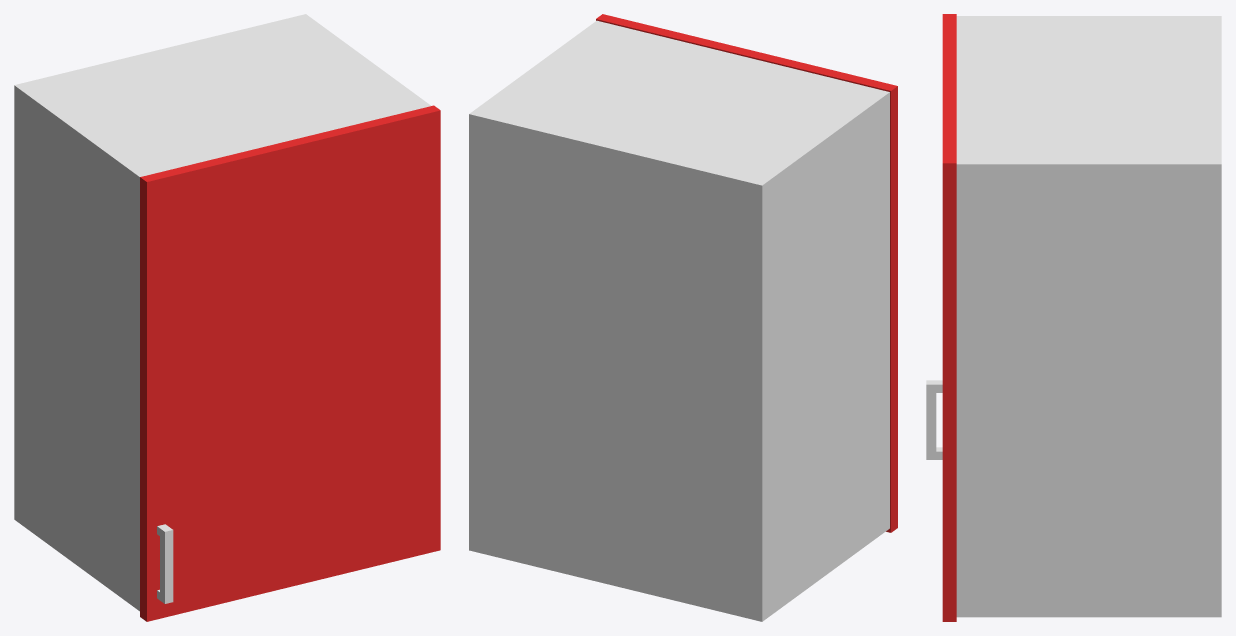
File: kitchen_item_050.glb
3 views of the same model, side by side, from view 1: azimuth 30°, elevation 25°; view 2: azimuth 150°, elevation 25°; view 3: azimuth 270°, elevation 25° (orthographic). The views are drawn at different scales.
Parts seen in each view (by area): view 1: kitchen_item_050; view 2: kitchen_item_050; view 3: kitchen_item_050.
Part boxes in pixels (x1=…): kitchen_item_050: x1=14, y1=14, x2=440, y2=621; kitchen_item_050: x1=469, y1=14, x2=897, y2=621; kitchen_item_050: x1=926, y1=14, x2=1221, y2=621.
Bounding box in the file's own units: 0.6194 × 0.8859 × 0.5174.
1 material, 1 textured.
